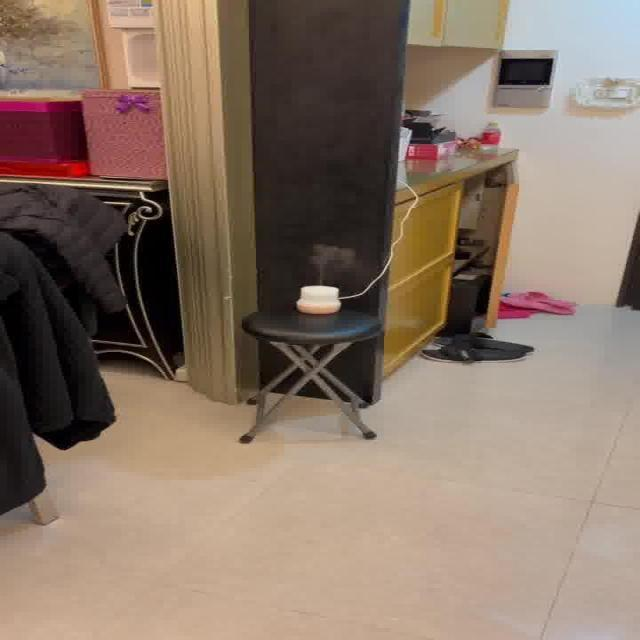fire: (299, 236, 363, 284)
